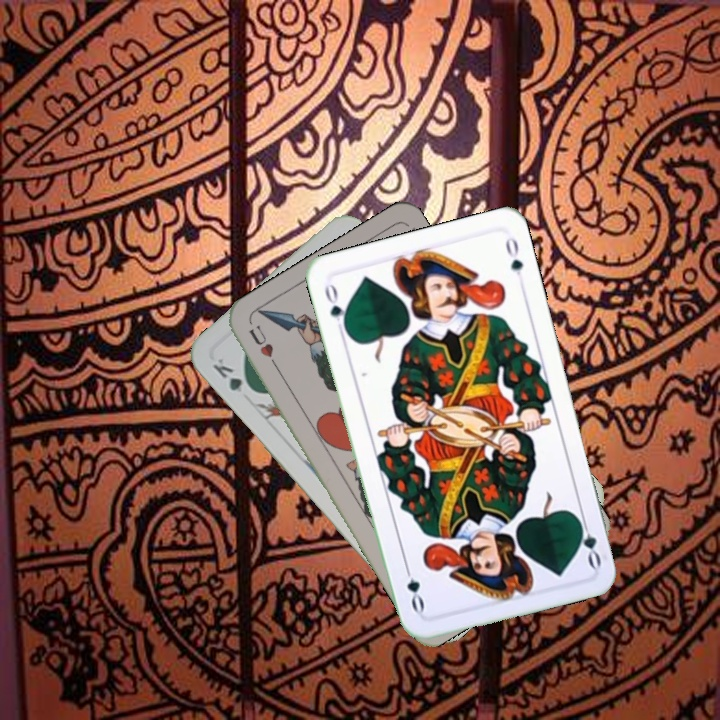GK: (208, 354, 259, 396)
GO: (572, 511, 604, 570), (320, 278, 350, 337)
HU: (245, 321, 282, 374)
